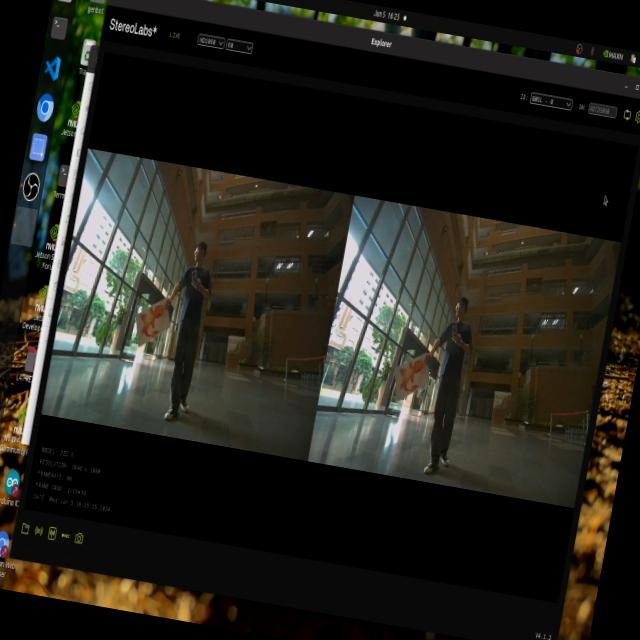red: (393, 351, 433, 401), (142, 305, 164, 336)
